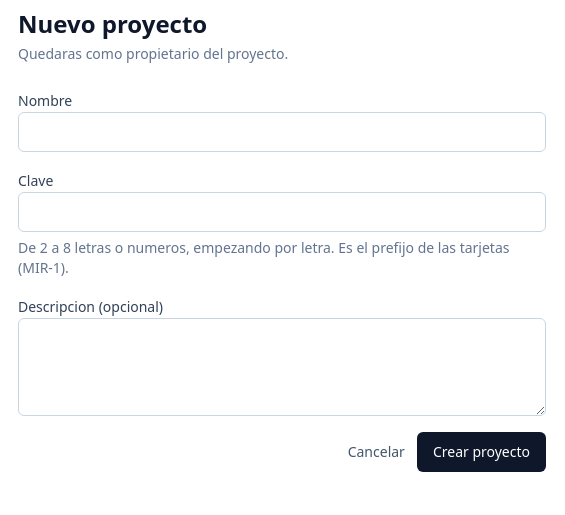
Scenario: CreateProjectPage › pinta bajo el campo los errores 422 que devuelve el servidor
Type "Mira" into the field labelled "Nombre".
click(282, 132); type("Mira")  # box [18,112,546,152]
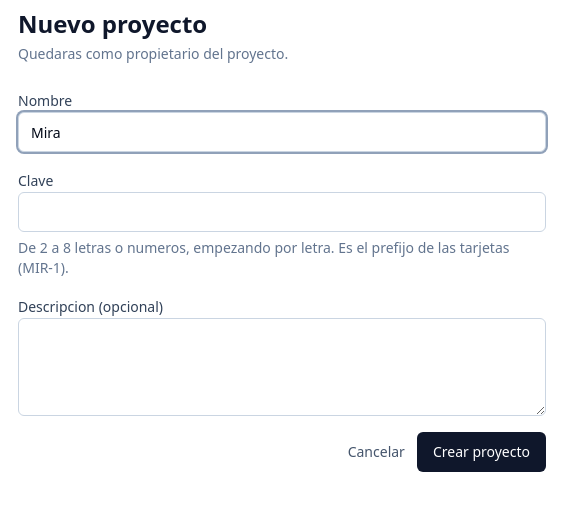
Type "mir" into the field labelled "Clave".
click(282, 212); type("mir")  # box [18,192,546,232]
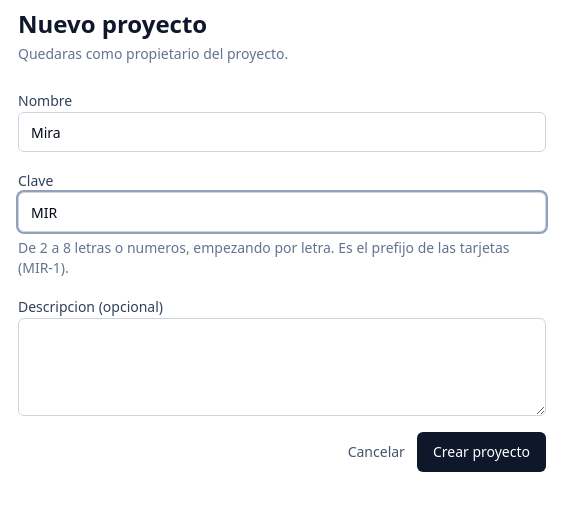
Click the button "Crear proyecto".
click(481, 452)  # box [417,432,546,472]
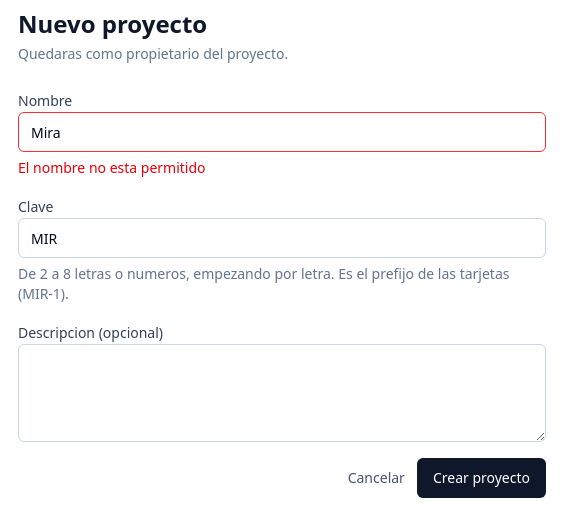
Result: the text "El nombre no esta permitido" is shown at [18,158,206,177]
